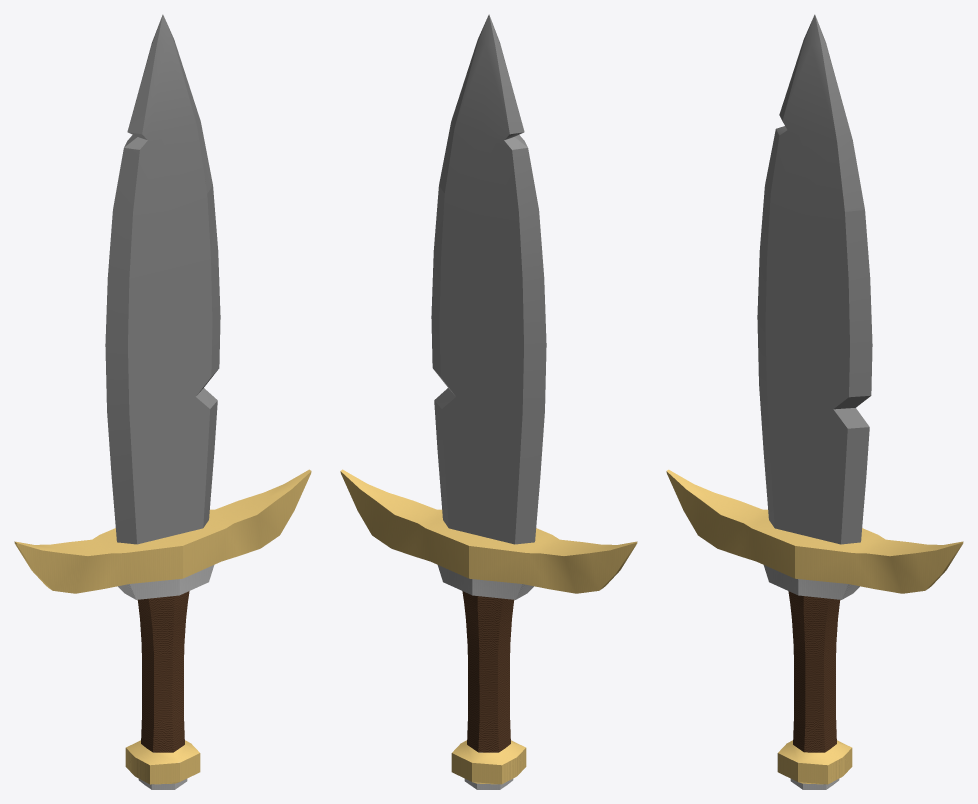
Rendered from sword.FBX.
3 renders of one model, left to right at view 1: azimuth 30°, elevation 25°; view 2: azimuth 150°, elevation 25°; view 3: azimuth 330°, elevation 25°, orthographic.
Visible parts, largest first — view 1: sword5_sword5_0; view 2: sword5_sword5_0; view 3: sword5_sword5_0.
Part boxes in pixels (box(x1,y1,x2,y2)): sword5_sword5_0: box(14, 14, 311, 789); sword5_sword5_0: box(340, 14, 637, 789); sword5_sword5_0: box(666, 14, 963, 789).
Size of the model in its own units: 26.24 by 65.76 by 6.18.
